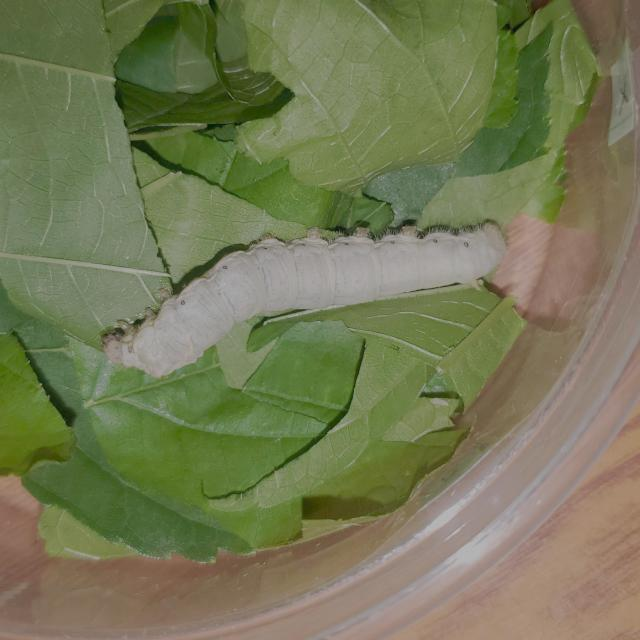Healthy: (89, 197, 541, 402)
